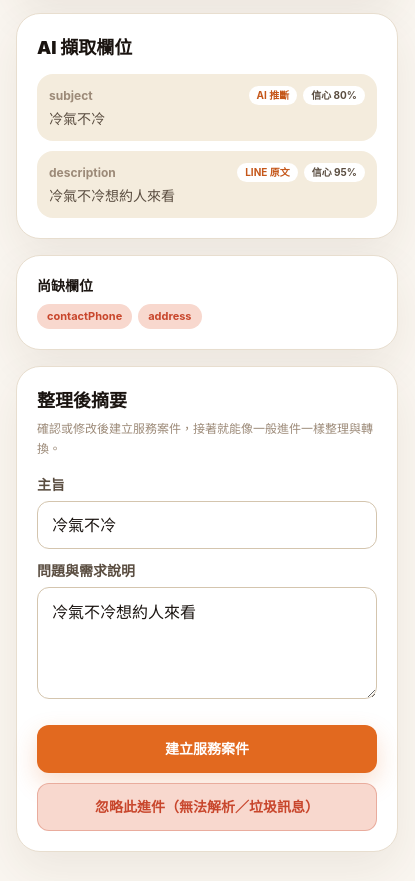
PilotIntakeDraftReview › sends edited field values as overrides on confirm
(page scrolled)
Replace the text in the field named "主旨" with "冷氣清洗保養". click: (207, 524)
box: x1=37 y1=500 x2=377 y2=548
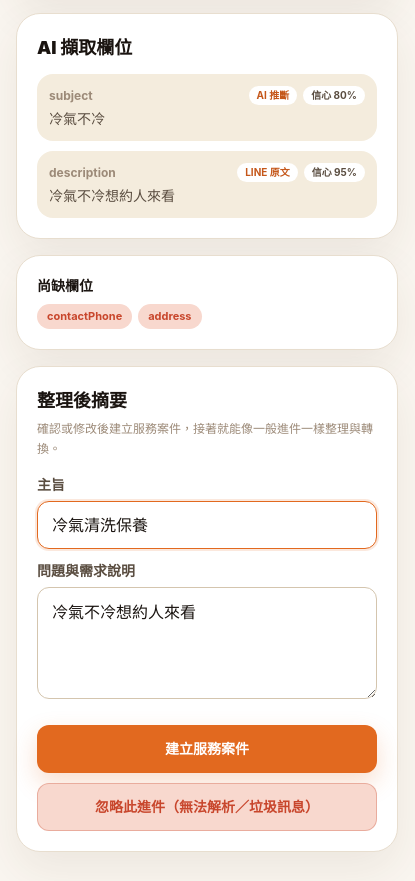
Click the button "建立服務案件". click: click(207, 748)
box: x1=37 y1=724 x2=377 y2=772
(page scrolled)
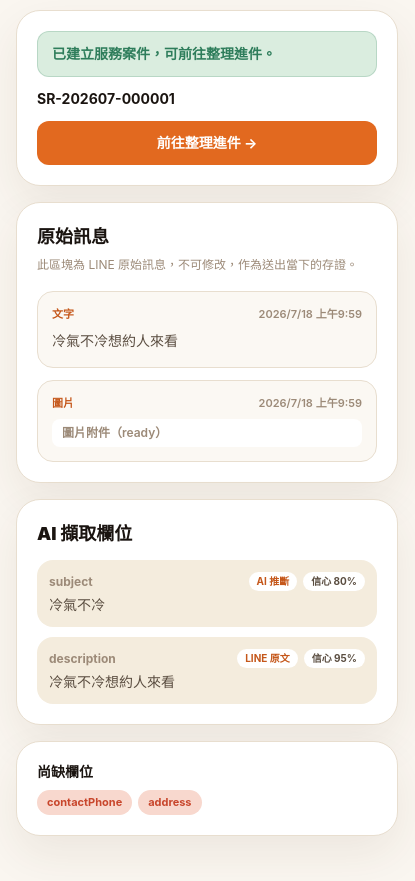
Expected: the text "已建立服務案件，可前往整理進件。" is shown, x1=37 y1=31 x2=377 y2=77
